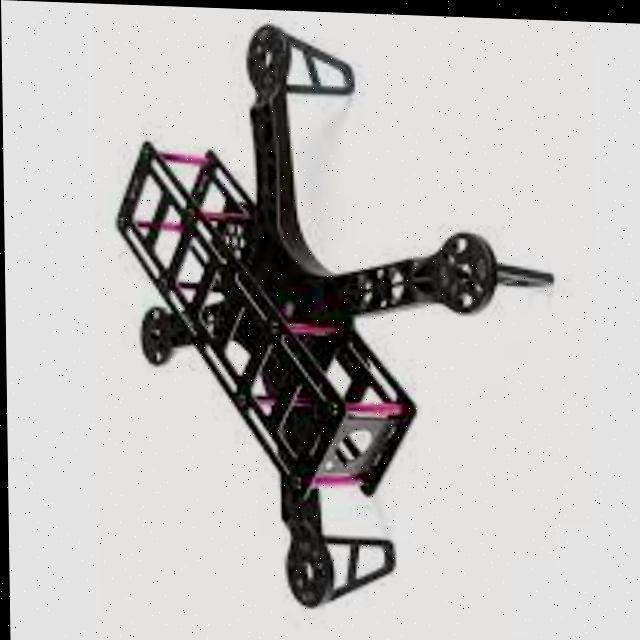drone: (92, 16, 523, 614)
